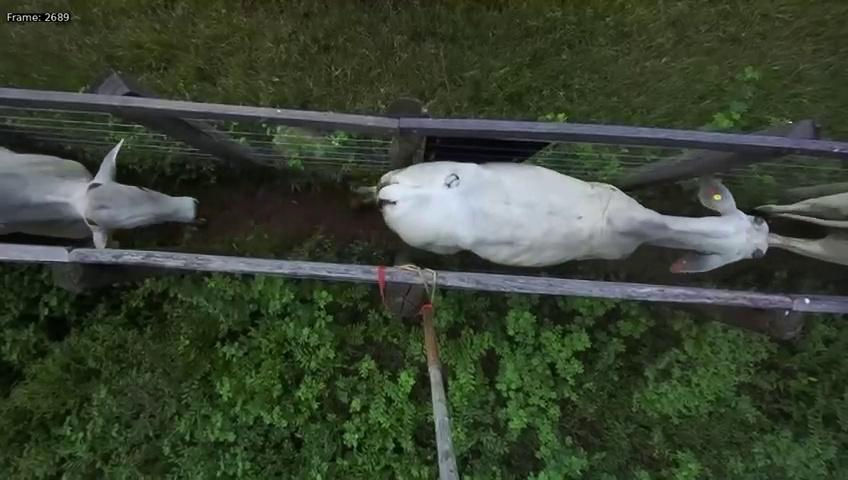cattle: (375, 158, 789, 278), (0, 134, 202, 254)
